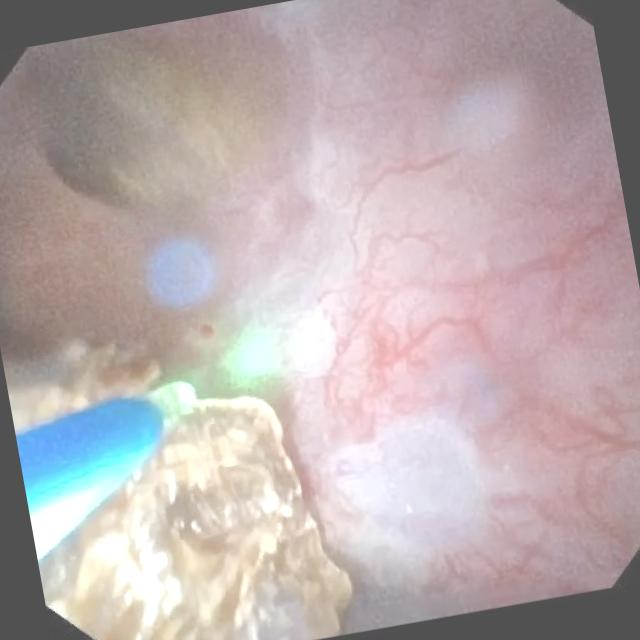laser-fibre: (146, 383, 198, 430)
laser_dot: (223, 330, 282, 390)
stone-new: (39, 399, 350, 640), (26, 10, 285, 225), (8, 344, 158, 430)
